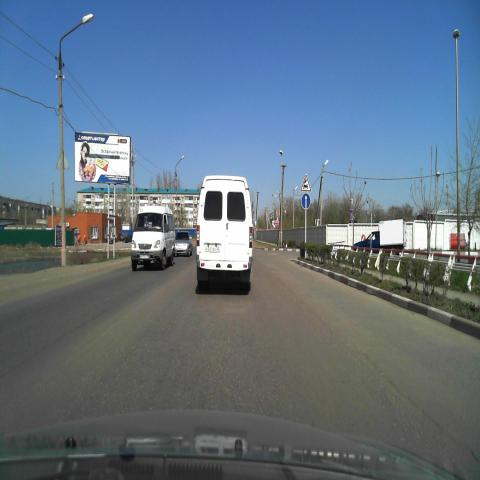1_2: (300, 174, 312, 192)
